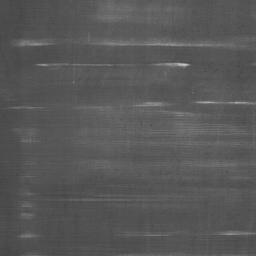Waist folding: (20, 99, 256, 221), (35, 60, 214, 85), (13, 34, 256, 52), (96, 2, 183, 25), (117, 229, 256, 239), (108, 251, 256, 256), (13, 127, 39, 144), (0, 105, 44, 111), (18, 232, 40, 240), (21, 251, 46, 256)
